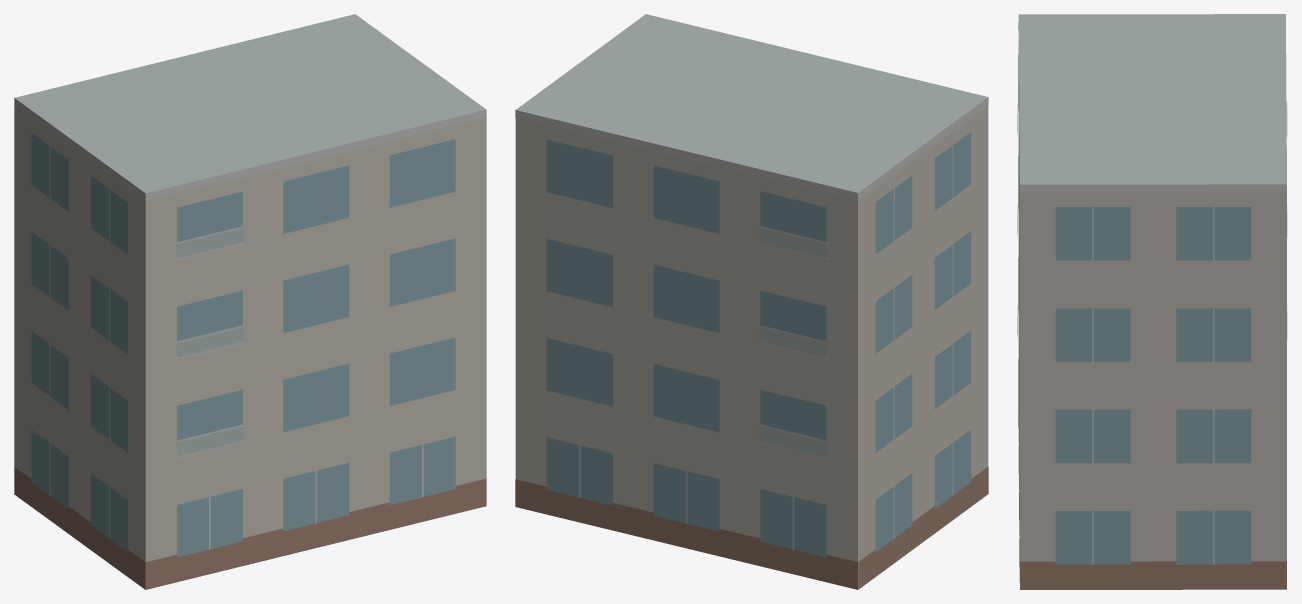
File: residential-d1e7f6b9-dd15-425e-9ba7-5976bc4e0265.glb
The picture shows the model from 3 angles, left to right: view 1: azimuth 30°, elevation 25°; view 2: azimuth 150°, elevation 25°; view 3: azimuth 270°, elevation 25°; orthographic projection. The views are drawn at different scales.
Visible parts, largest first — view 1: residential-d1e7f6b9-dd15-425e-9ba7-5976bc4e0265.tmp; view 2: residential-d1e7f6b9-dd15-425e-9ba7-5976bc4e0265.tmp; view 3: residential-d1e7f6b9-dd15-425e-9ba7-5976bc4e0265.tmp.
Boxes of the visible parts, x1,y1,x2,y2 form: residential-d1e7f6b9-dd15-425e-9ba7-5976bc4e0265.tmp: (14, 14, 486, 589); residential-d1e7f6b9-dd15-425e-9ba7-5976bc4e0265.tmp: (515, 14, 988, 589); residential-d1e7f6b9-dd15-425e-9ba7-5976bc4e0265.tmp: (1017, 14, 1287, 589).
Bounding box in the file's own units: 11.03 × 12.2 × 7.38.
